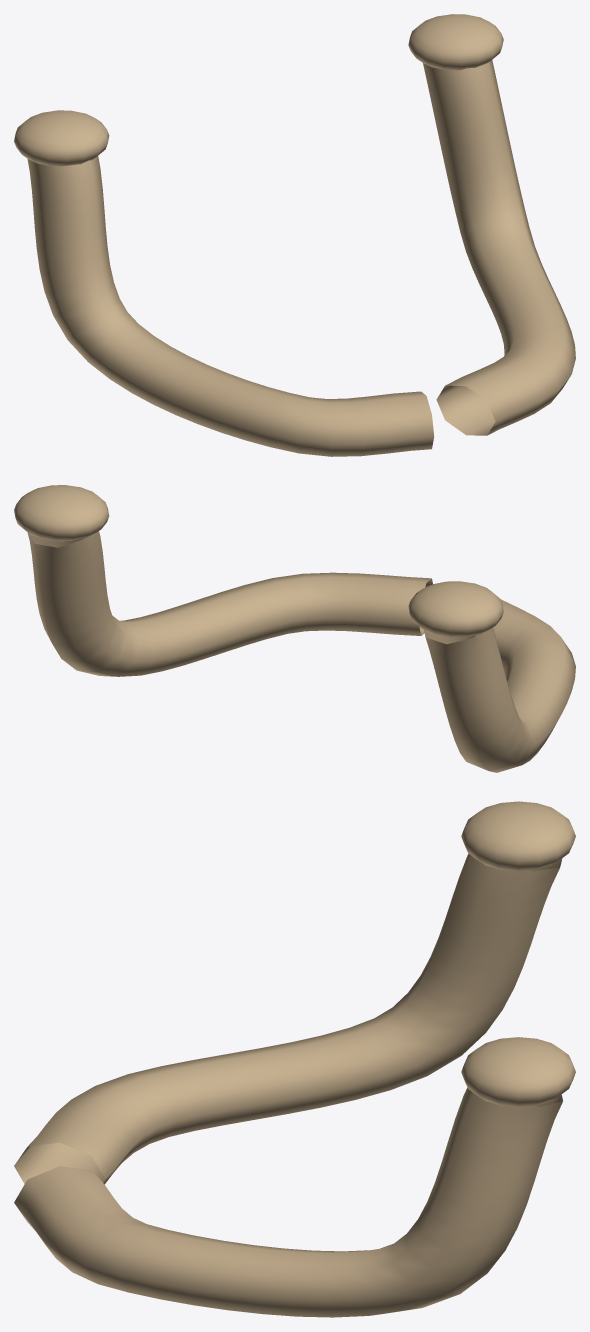
File: mandible.glb
3 renders of one model, top to bottom at view 1: azimuth 30°, elevation 25°; view 2: azimuth 150°, elevation 25°; view 3: azimuth 270°, elevation 25°, orthographic. The views are drawn at different scales.
Visible parts, largest first — view 1: mandible:hemimandible--1, mandible:hemimandible-1, mandible:condyle--1, mandible:condyle-1; view 2: mandible:hemimandible-1, mandible:hemimandible--1, mandible:condyle--1, mandible:condyle-1; view 3: mandible:hemimandible-1, mandible:hemimandible--1, mandible:condyle--1, mandible:condyle-1.
Part boxes in pixels (left/top/right/bottom): mandible:hemimandible--1: left=27, top=156, right=434, bottom=456; mandible:hemimandible-1: left=423, top=60, right=575, bottom=435; mandible:condyle--1: left=14, top=110, right=109, bottom=166; mandible:condyle-1: left=408, top=14, right=503, bottom=70; mandible:hemimandible-1: left=27, top=531, right=432, bottom=676; mandible:hemimandible--1: left=424, top=599, right=575, bottom=772; mandible:condyle--1: left=408, top=581, right=503, bottom=637; mandible:condyle-1: left=14, top=485, right=109, bottom=541; mandible:hemimandible-1: left=14, top=1087, right=562, bottom=1317; mandible:hemimandible--1: left=14, top=853, right=562, bottom=1184; mandible:condyle--1: left=461, top=801, right=575, bottom=871; mandible:condyle-1: left=461, top=1037, right=575, bottom=1106.
Bounding box in the file's own units: 0.616 × 0.288 × 0.512.
